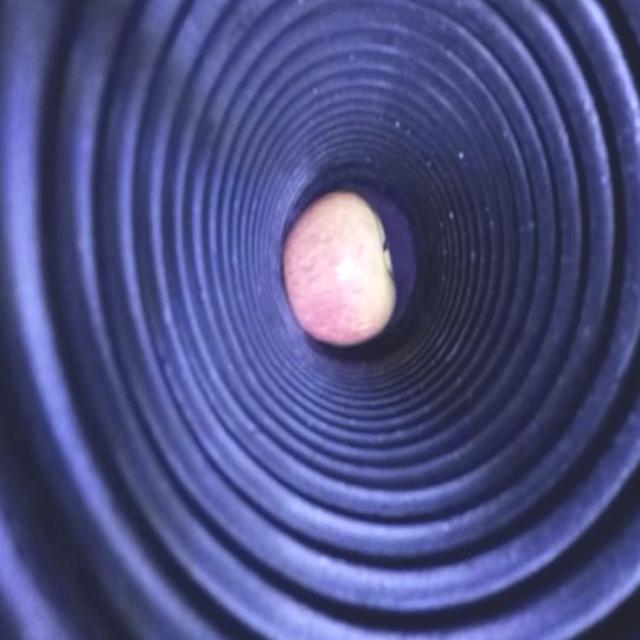obstacles: (281, 190, 398, 344)
